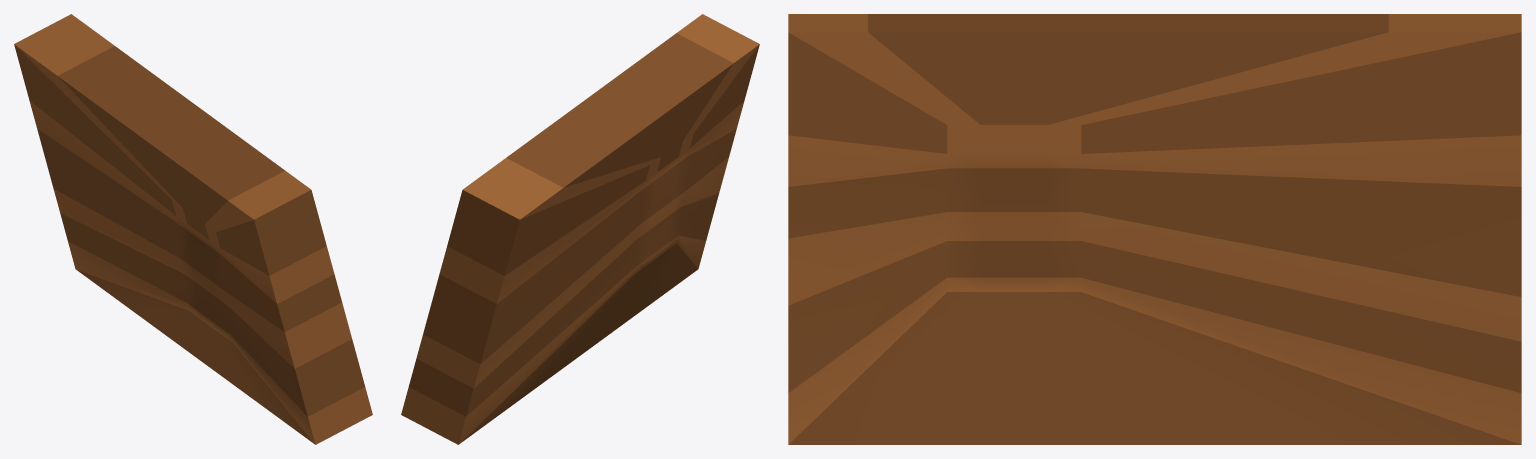
Rendered from Madera.fbx.
3 views of the same model, side by side, from view 1: azimuth 30°, elevation 25°; view 2: azimuth 150°, elevation 25°; view 3: azimuth 270°, elevation 25° (orthographic). The views are drawn at different scales.
Visible parts, largest first — view 1: Madera; view 2: Madera; view 3: Madera.
Part boxes in pixels (x1,y1,x2,y2): Madera: [14, 14, 372, 444]; Madera: [401, 14, 759, 444]; Madera: [788, 14, 1521, 444].
Size of the model in its own units: 6.87 by 14.16 by 24.04.
